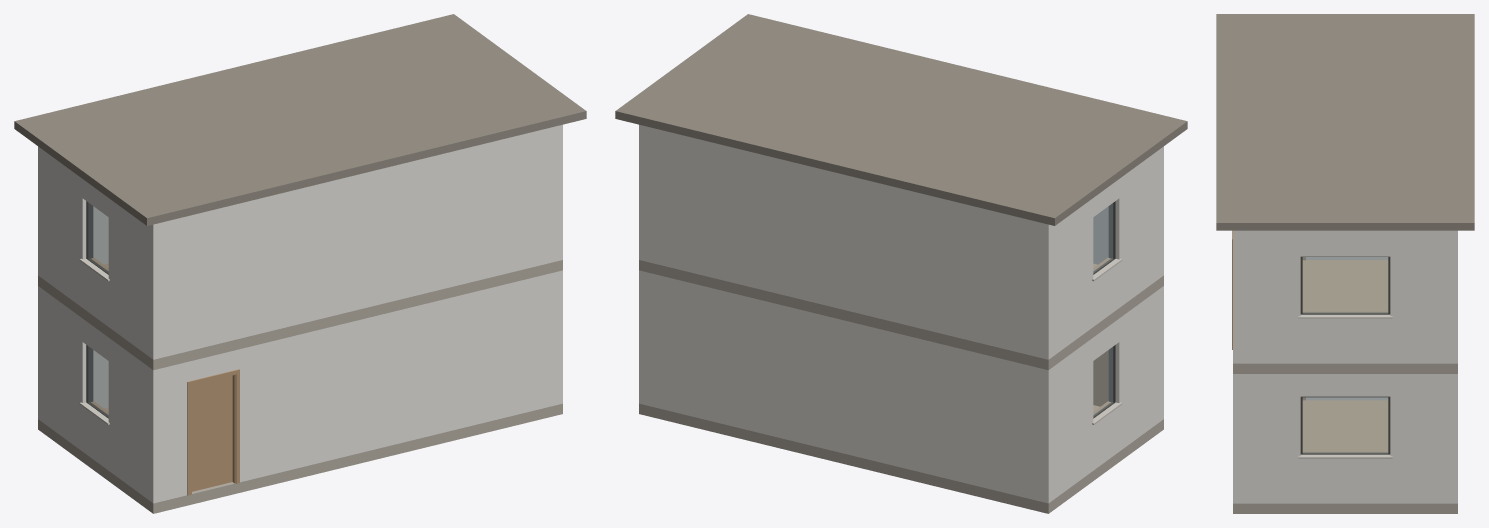
File: turning-stair.glb
The picture shows the model from 3 angles, left to right: view 1: azimuth 30°, elevation 25°; view 2: azimuth 150°, elevation 25°; view 3: azimuth 270°, elevation 25°; orthographic projection. The views are drawn at different scales.
Parts seen in each view (by area): view 1: wall:exterior (×2), roof:roof_1, slab:slab (×2), door:door_1, window:window_2:glass (×2), door:door_1:casing; view 2: wall:exterior (×2), roof:roof_1, slab:slab (×2), window:window_2:glass (×2), door:door_1; view 3: roof:roof_1, wall:exterior (×2), window:window_1:glass (×2), slab:slab (×2), floor:bed, floor:living, window:window_1:frame (×2), window:window_1:sill (×2), wall:hall|living.
Part boxes in pixels (x1,y1,x2,y2): wall:exterior (×2): (38, 124, 562, 503); roof:roof_1: (14, 14, 586, 225); slab:slab (×2): (38, 260, 562, 513); door:door_1: (192, 375, 232, 491); window:window_2:glass (×2): (89, 203, 108, 416); door:door_1:casing: (187, 369, 239, 495); wall:exterior (×2): (639, 124, 1163, 503); roof:roof_1: (615, 14, 1187, 225); slab:slab (×2): (639, 260, 1163, 513); window:window_2:glass (×2): (1093, 203, 1112, 416); door:door_1: (1093, 350, 1108, 406); roof:roof_1: (1216, 14, 1474, 230); wall:exterior (×2): (1233, 230, 1457, 503); window:window_1:glass (×2): (1303, 257, 1387, 453); slab:slab (×2): (1233, 363, 1457, 513); floor:bed: (1302, 260, 1388, 311); floor:living: (1302, 400, 1388, 451); window:window_1:frame (×2): (1300, 256, 1390, 454); window:window_1:sill (×2): (1298, 314, 1392, 458); wall:hall|living: (1306, 397, 1388, 400).
Size of the model in its own units: 8.8 by 5.85 by 4.6.
